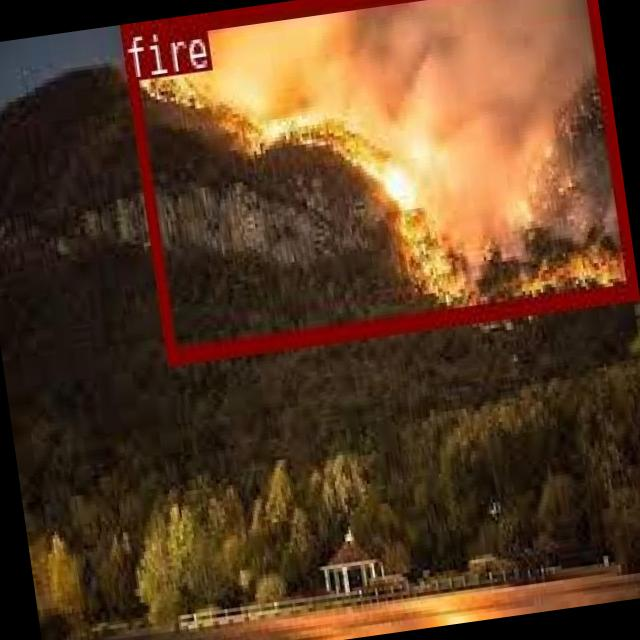fire: (118, 0, 635, 360)
